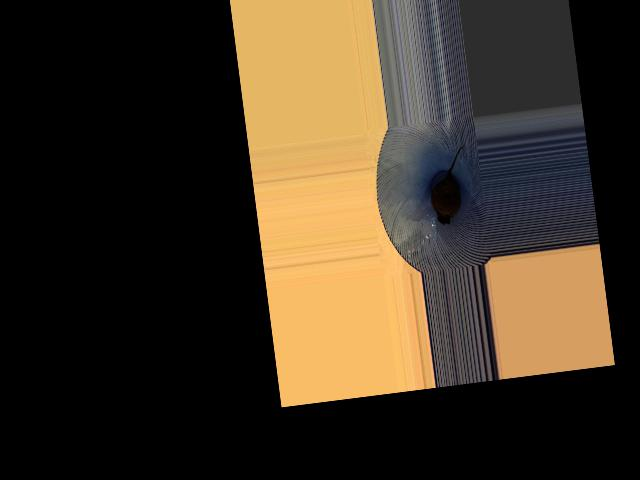beet: (425, 146, 473, 226)
